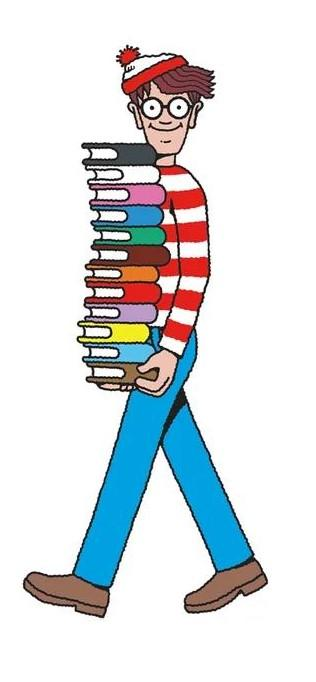waldos: (20, 44, 270, 620)
